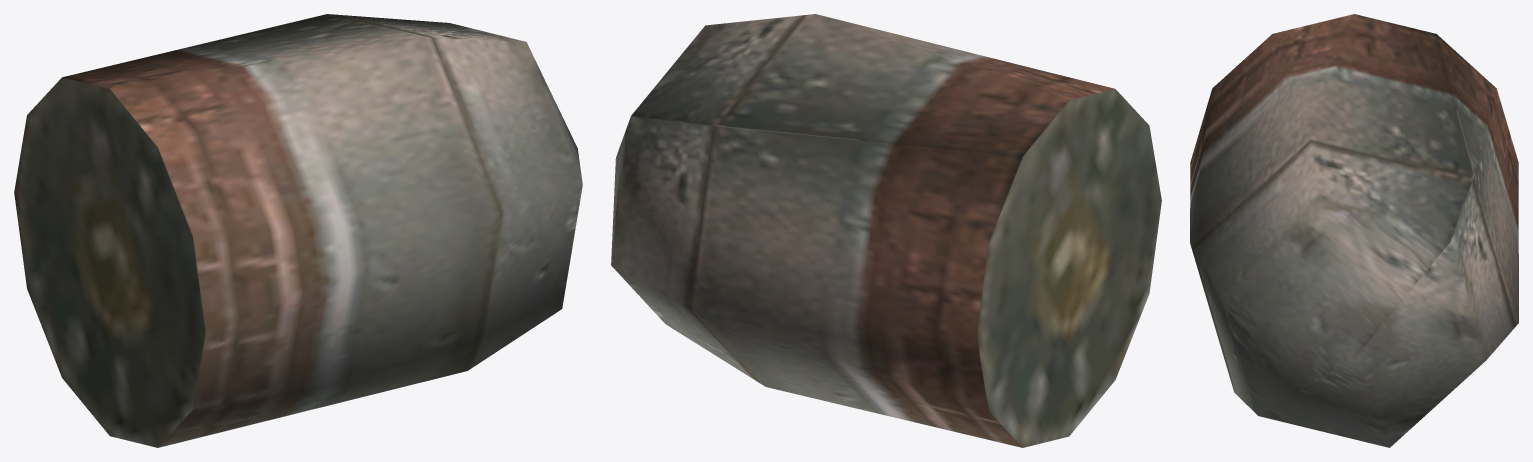
File: projectile_m203grenade_LOD0.obj
3 views of the same model, side by side, from view 1: azimuth 30°, elevation 25°; view 2: azimuth 150°, elevation 25°; view 3: azimuth 270°, elevation 25° (orthographic). The views are drawn at different scales.
Parts seen in each view (by area): view 1: mtl_weapon_m203_grenade; view 2: mtl_weapon_m203_grenade; view 3: mtl_weapon_m203_grenade.
Boxes of the visible parts, bbox=[...] form: mtl_weapon_m203_grenade: bbox=[14, 14, 582, 447]; mtl_weapon_m203_grenade: bbox=[611, 14, 1161, 447]; mtl_weapon_m203_grenade: bbox=[1190, 14, 1518, 447].
Bounding box in the file's own units: 8.74 × 6.2 × 6.2.
